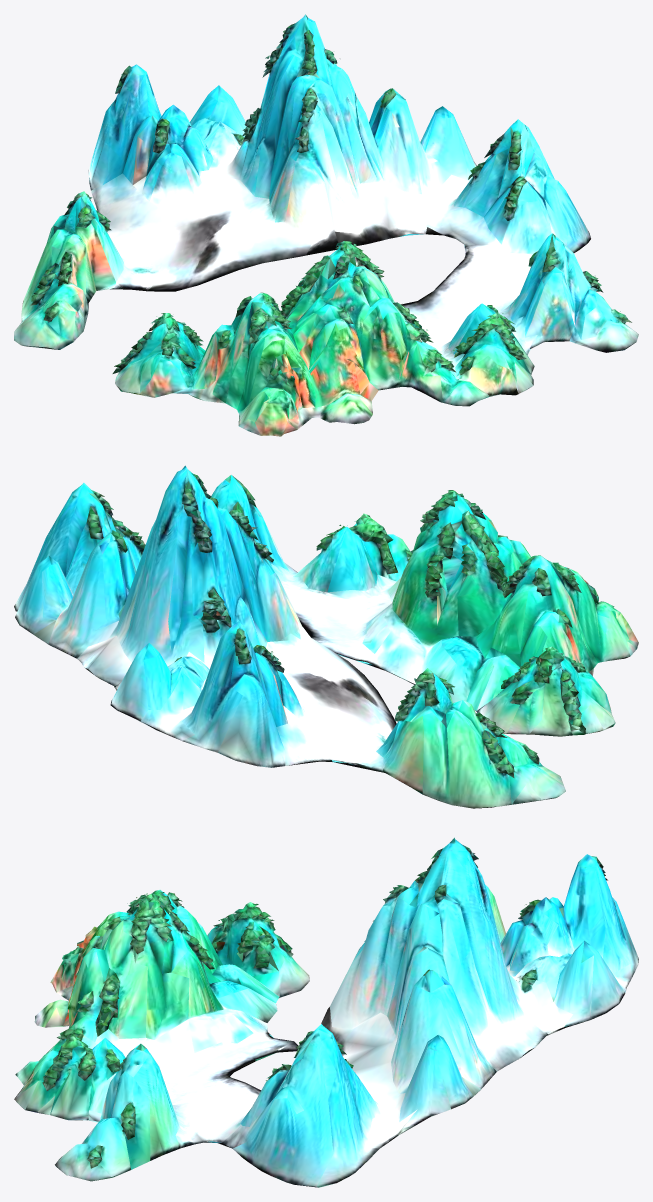
File: ql_mount2_lo.glb
3 views of the same model, one above another, from view 1: azimuth 30°, elevation 25°; view 2: azimuth 150°, elevation 25°; view 3: azimuth 270°, elevation 25° (orthographic). The views are drawn at different scales.
Parts seen in each view (by area): view 1: ql_mount2; view 2: ql_mount2; view 3: ql_mount2.
Part boxes in pixels (box(x1,y1,x2,y2)): ql_mount2: box(14, 14, 638, 436); ql_mount2: box(14, 465, 638, 808); ql_mount2: box(14, 837, 638, 1187).
Bounding box in the file's own units: 69.87 × 30.08 × 66.1.
Materials: 1 (1 with a texture image).
